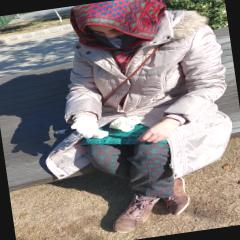gloved: (67, 111, 111, 142)
not-gloved: (133, 116, 186, 146)
